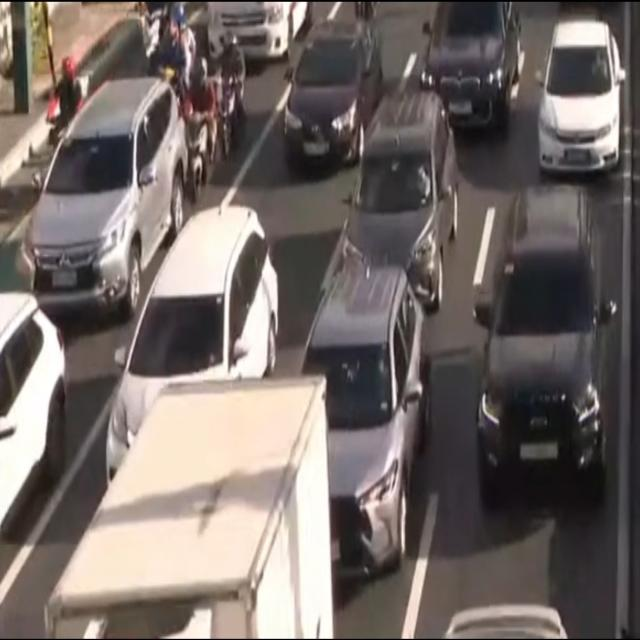Motorcycle: (42, 48, 88, 164), (184, 58, 224, 191), (154, 6, 194, 105), (222, 22, 248, 168)
SUV: (465, 181, 615, 498), (21, 74, 186, 319), (338, 95, 458, 293), (419, 0, 526, 132)
Sedan: (104, 203, 278, 483), (289, 267, 432, 570), (0, 286, 70, 554), (282, 24, 382, 167), (536, 25, 622, 175)
Truck: (42, 376, 336, 640)
